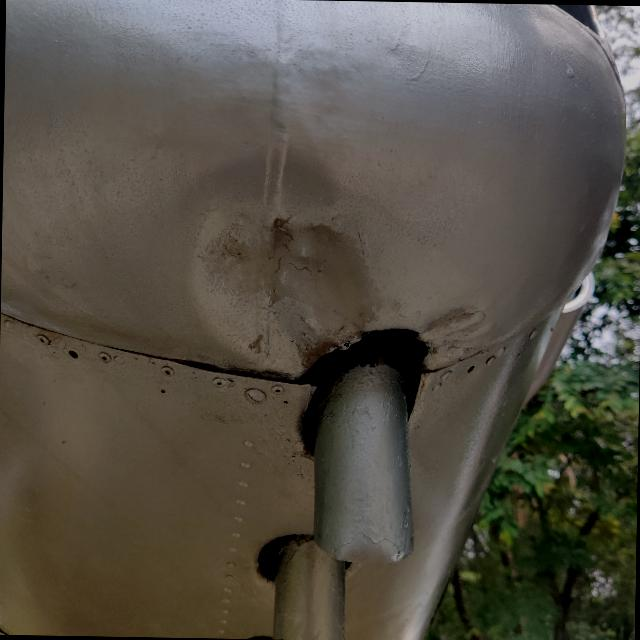dent: (187, 209, 378, 372), (406, 286, 499, 358)
